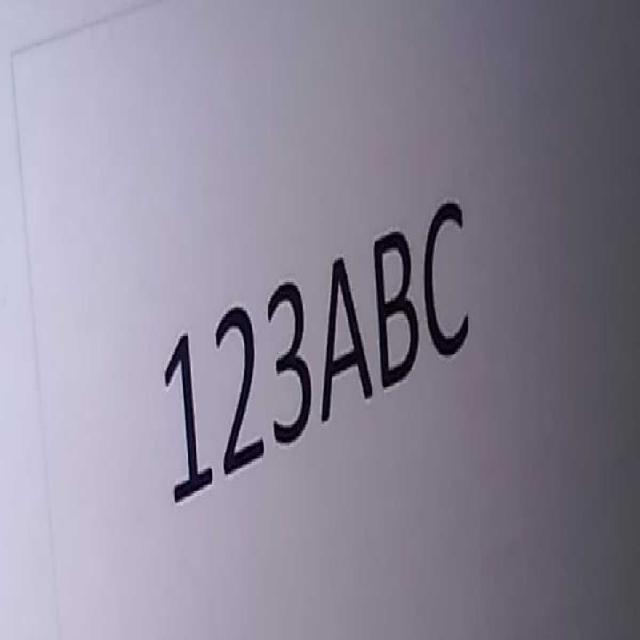license_plate: (158, 165, 476, 515)
